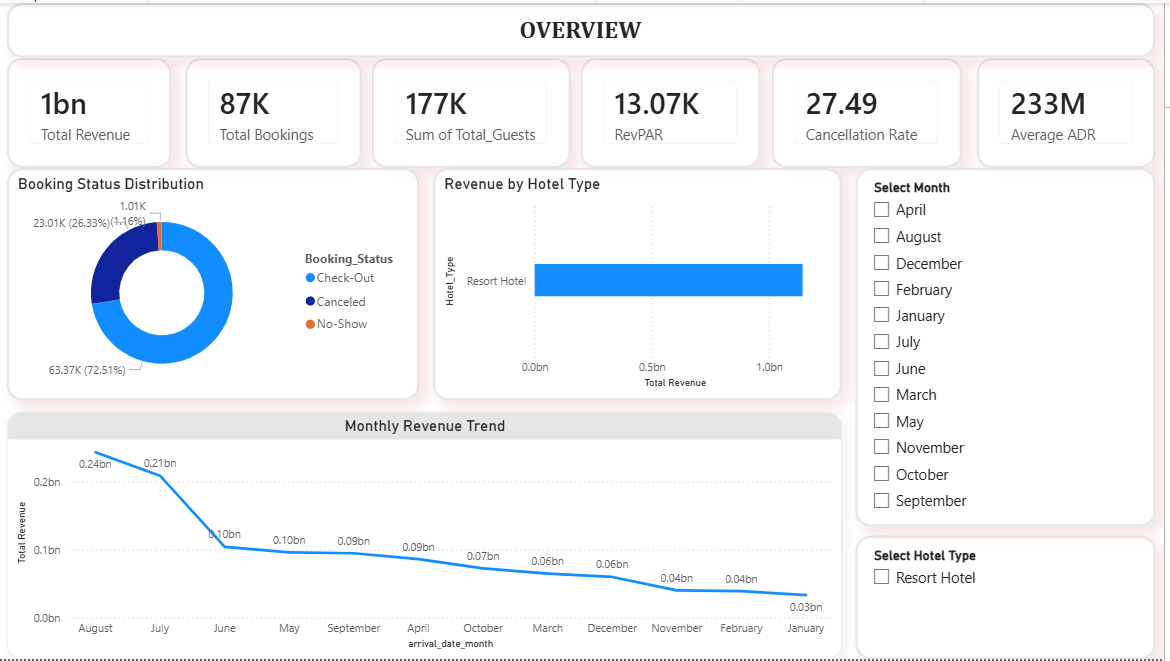

This screenshot's page, from the dashboard's own definition file:
{"tool":"powerbi","page":{"name":"Overview","canvas":[1280,720],"ordinal":0},"visuals":[{"type":"cardVisual","fields":{"Data":["hospitality_data.Total Revenue"]},"box":[9.6,60.4,181.1,120.8],"z":0},{"type":"cardVisual","fields":{"Data":["hospitality_data.Total Bookings"]},"box":[205.8,60.4,193.5,120.8],"z":1000},{"type":"cardVisual","fields":{"Data":["Sum(hospitality_data.Total_Guests)"]},"box":[410.3,60.4,218.2,120.8],"z":2000},{"type":"cardVisual","fields":{"Data":["hospitality_data.Average ADR"]},"box":[1074.4,60.4,196.2,120.8],"z":3000},{"type":"cardVisual","fields":{"Data":["hospitality_data.RevPAR"]},"box":[639.5,60.4,197.6,120.8],"z":4000},{"type":"cardVisual","fields":{"Data":["hospitality_data.Cancellation Rate"]},"box":[849.4,60.4,208.6,120.8],"z":5000},{"type":"lineChart","title":"Monthly Revenue Trend","fields":{"Category":["hospitality_data.arrival_date_month"],"Y":["hospitality_data.Total Revenue"]},"box":[9.6,448.7,916.6,271.7],"z":6000},{"type":"clusteredBarChart","title":"Revenue by Hotel Type","fields":{"Category":["hospitality_data.Hotel_Type"],"Y":["hospitality_data.Total Revenue"]},"box":[477.5,181.1,448.7,255.2],"z":7000},{"type":"donutChart","title":"Booking Status Distribution","fields":{"Category":["hospitality_data.Booking_Status"],"Y":["CountNonNull(hospitality_data.Booking_Status)"]},"box":[9.6,181.1,452.8,255.2],"z":8000},{"type":"slicer","fields":{"Values":["hospitality_data.Hotel_Type"]},"box":[941.3,584.6,329.3,135.8],"z":9000},{"type":"slicer","fields":{"Values":["hospitality_data.arrival_date_month"]},"box":[941.3,181.1,329.3,393.8],"z":10000},{"type":"textbox","box":[9.6,0,1261.1,60.4],"z":11000}]}

Visuals, with their boxes in screenshot pixels (x1, y1, x2, y2), scaled from the page's 1280x720 canvas onto the 1170x661 screenshot:
cardVisual - hospitality_data.Total Revenue: x1=9 y1=55 x2=174 y2=166
cardVisual - hospitality_data.Total Bookings: x1=188 y1=55 x2=365 y2=166
cardVisual - Sum(hospitality_data.Total_Guests): x1=375 y1=55 x2=574 y2=166
cardVisual - hospitality_data.Average ADR: x1=982 y1=55 x2=1161 y2=166
cardVisual - hospitality_data.RevPAR: x1=585 y1=55 x2=765 y2=166
cardVisual - hospitality_data.Cancellation Rate: x1=776 y1=55 x2=967 y2=166
"Monthly Revenue Trend" lineChart: x1=9 y1=412 x2=847 y2=660
"Revenue by Hotel Type" clusteredBarChart: x1=436 y1=166 x2=847 y2=401
"Booking Status Distribution" donutChart: x1=9 y1=166 x2=423 y2=401
slicer - hospitality_data.Hotel_Type: x1=860 y1=537 x2=1161 y2=660
slicer - hospitality_data.arrival_date_month: x1=860 y1=166 x2=1161 y2=528
textbox: x1=9 y1=0 x2=1161 y2=55
